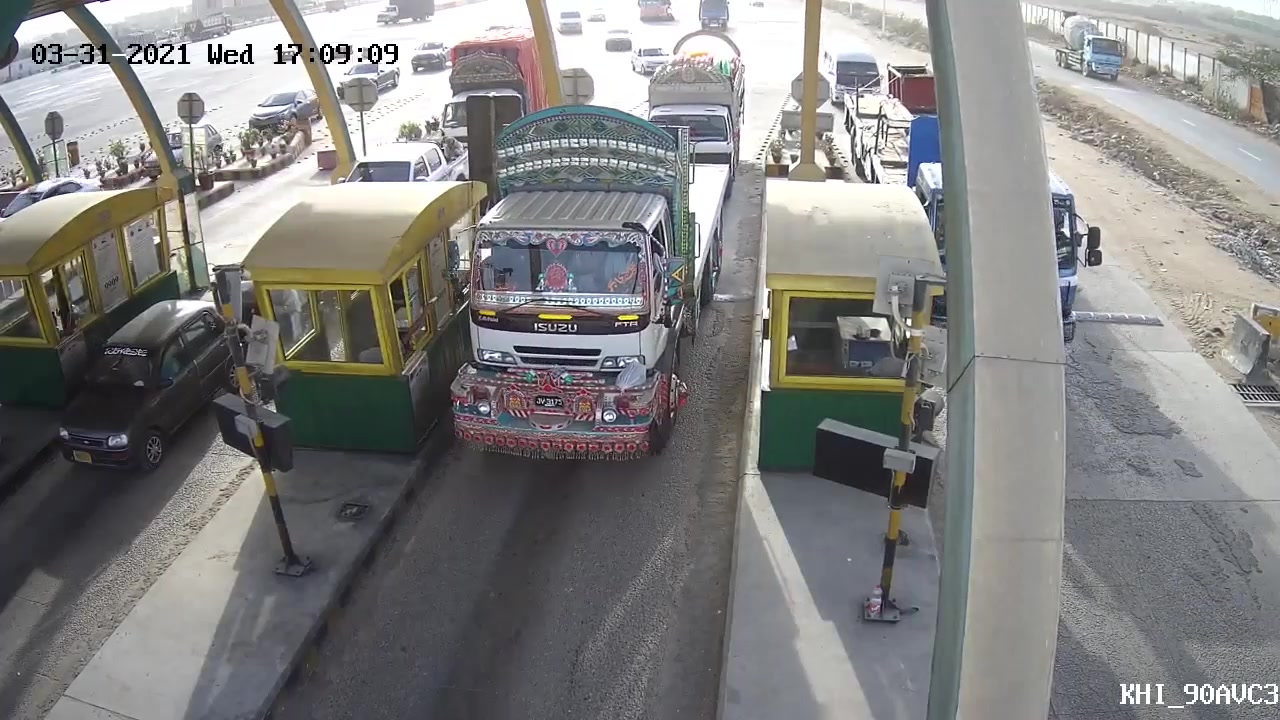F5: (416, 101, 729, 482)
